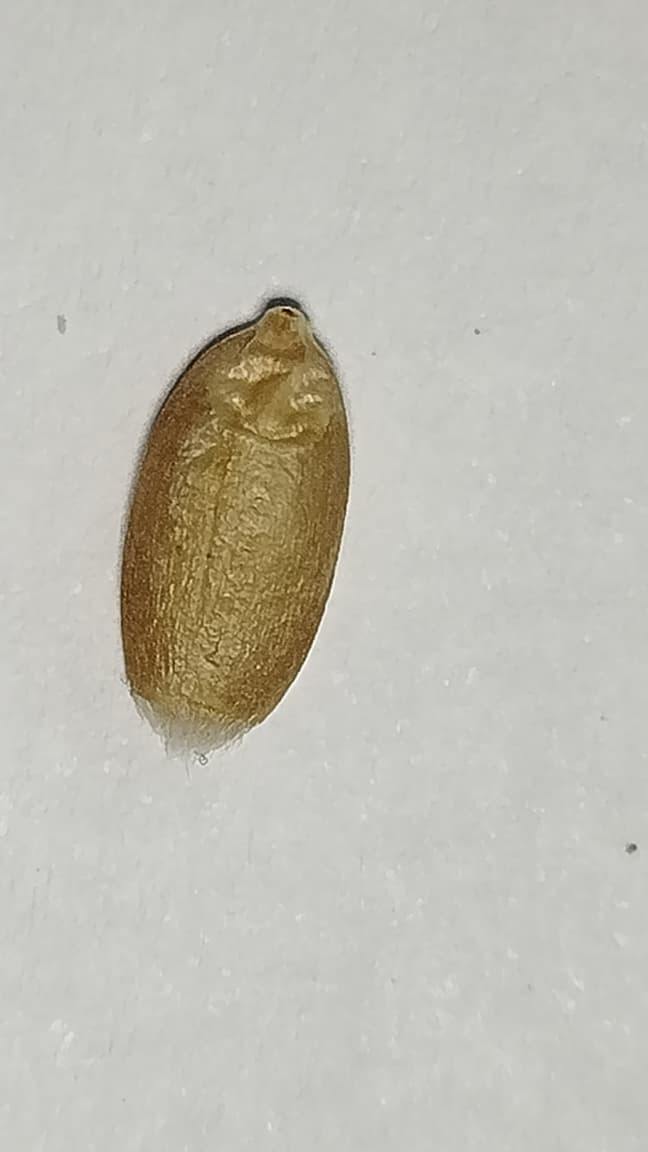healthy: (123, 307, 348, 729)
